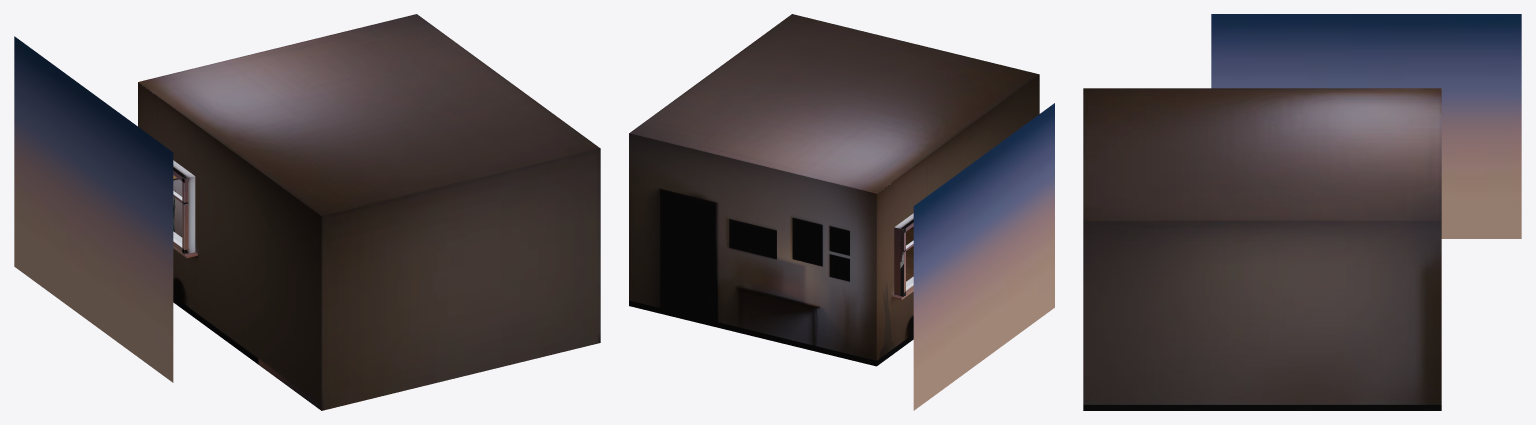
File: room-mobile.glb
3 renders of one model, left to right at view 1: azimuth 30°, elevation 25°; view 2: azimuth 150°, elevation 25°; view 3: azimuth 270°, elevation 25°, orthographic. The views are drawn at different scales.
Visible parts, largest first — view 1: wall_front, ceiling, sky, wall_left_b, wall_left_d, wall_left_c, skirt_left_a, wall_left_a, window_frame, reveal_r; view 2: wall_back, ceiling, sky, wall_left_b, wall_left_a, wall_left_d, wall_left_c, reveal_l; view 3: wall_right, ceiling, sky, skirt_right.
Boxes of the visible parts, bbox=[...] form: wall_front: bbox=[321, 148, 600, 410]; ceiling: bbox=[138, 14, 600, 216]; sky: bbox=[14, 36, 173, 382]; wall_left_b: bbox=[195, 124, 321, 410]; wall_left_d: bbox=[157, 97, 195, 175]; wall_left_c: bbox=[173, 249, 195, 317]; skirt_left_a: bbox=[173, 296, 322, 410]; wall_left_a: bbox=[138, 82, 157, 140]; window_frame: bbox=[173, 167, 188, 254]; reveal_r: bbox=[184, 176, 195, 254]; wall_back: bbox=[629, 133, 876, 366]; ceiling: bbox=[629, 14, 1039, 193]; sky: bbox=[913, 103, 1054, 410]; wall_left_b: bbox=[927, 75, 1039, 195]; wall_left_a: bbox=[876, 181, 894, 365]; wall_left_d: bbox=[894, 156, 927, 226]; wall_left_c: bbox=[894, 292, 913, 353]; reveal_l: bbox=[894, 227, 903, 296]; wall_right: bbox=[1083, 221, 1441, 410]; ceiling: bbox=[1083, 88, 1441, 221]; sky: bbox=[1211, 14, 1521, 238]; skirt_right: bbox=[1083, 405, 1441, 410].
Size of the model in its own units: 5.25 by 3.2 by 5.65.
9 materials, 6 textured.
